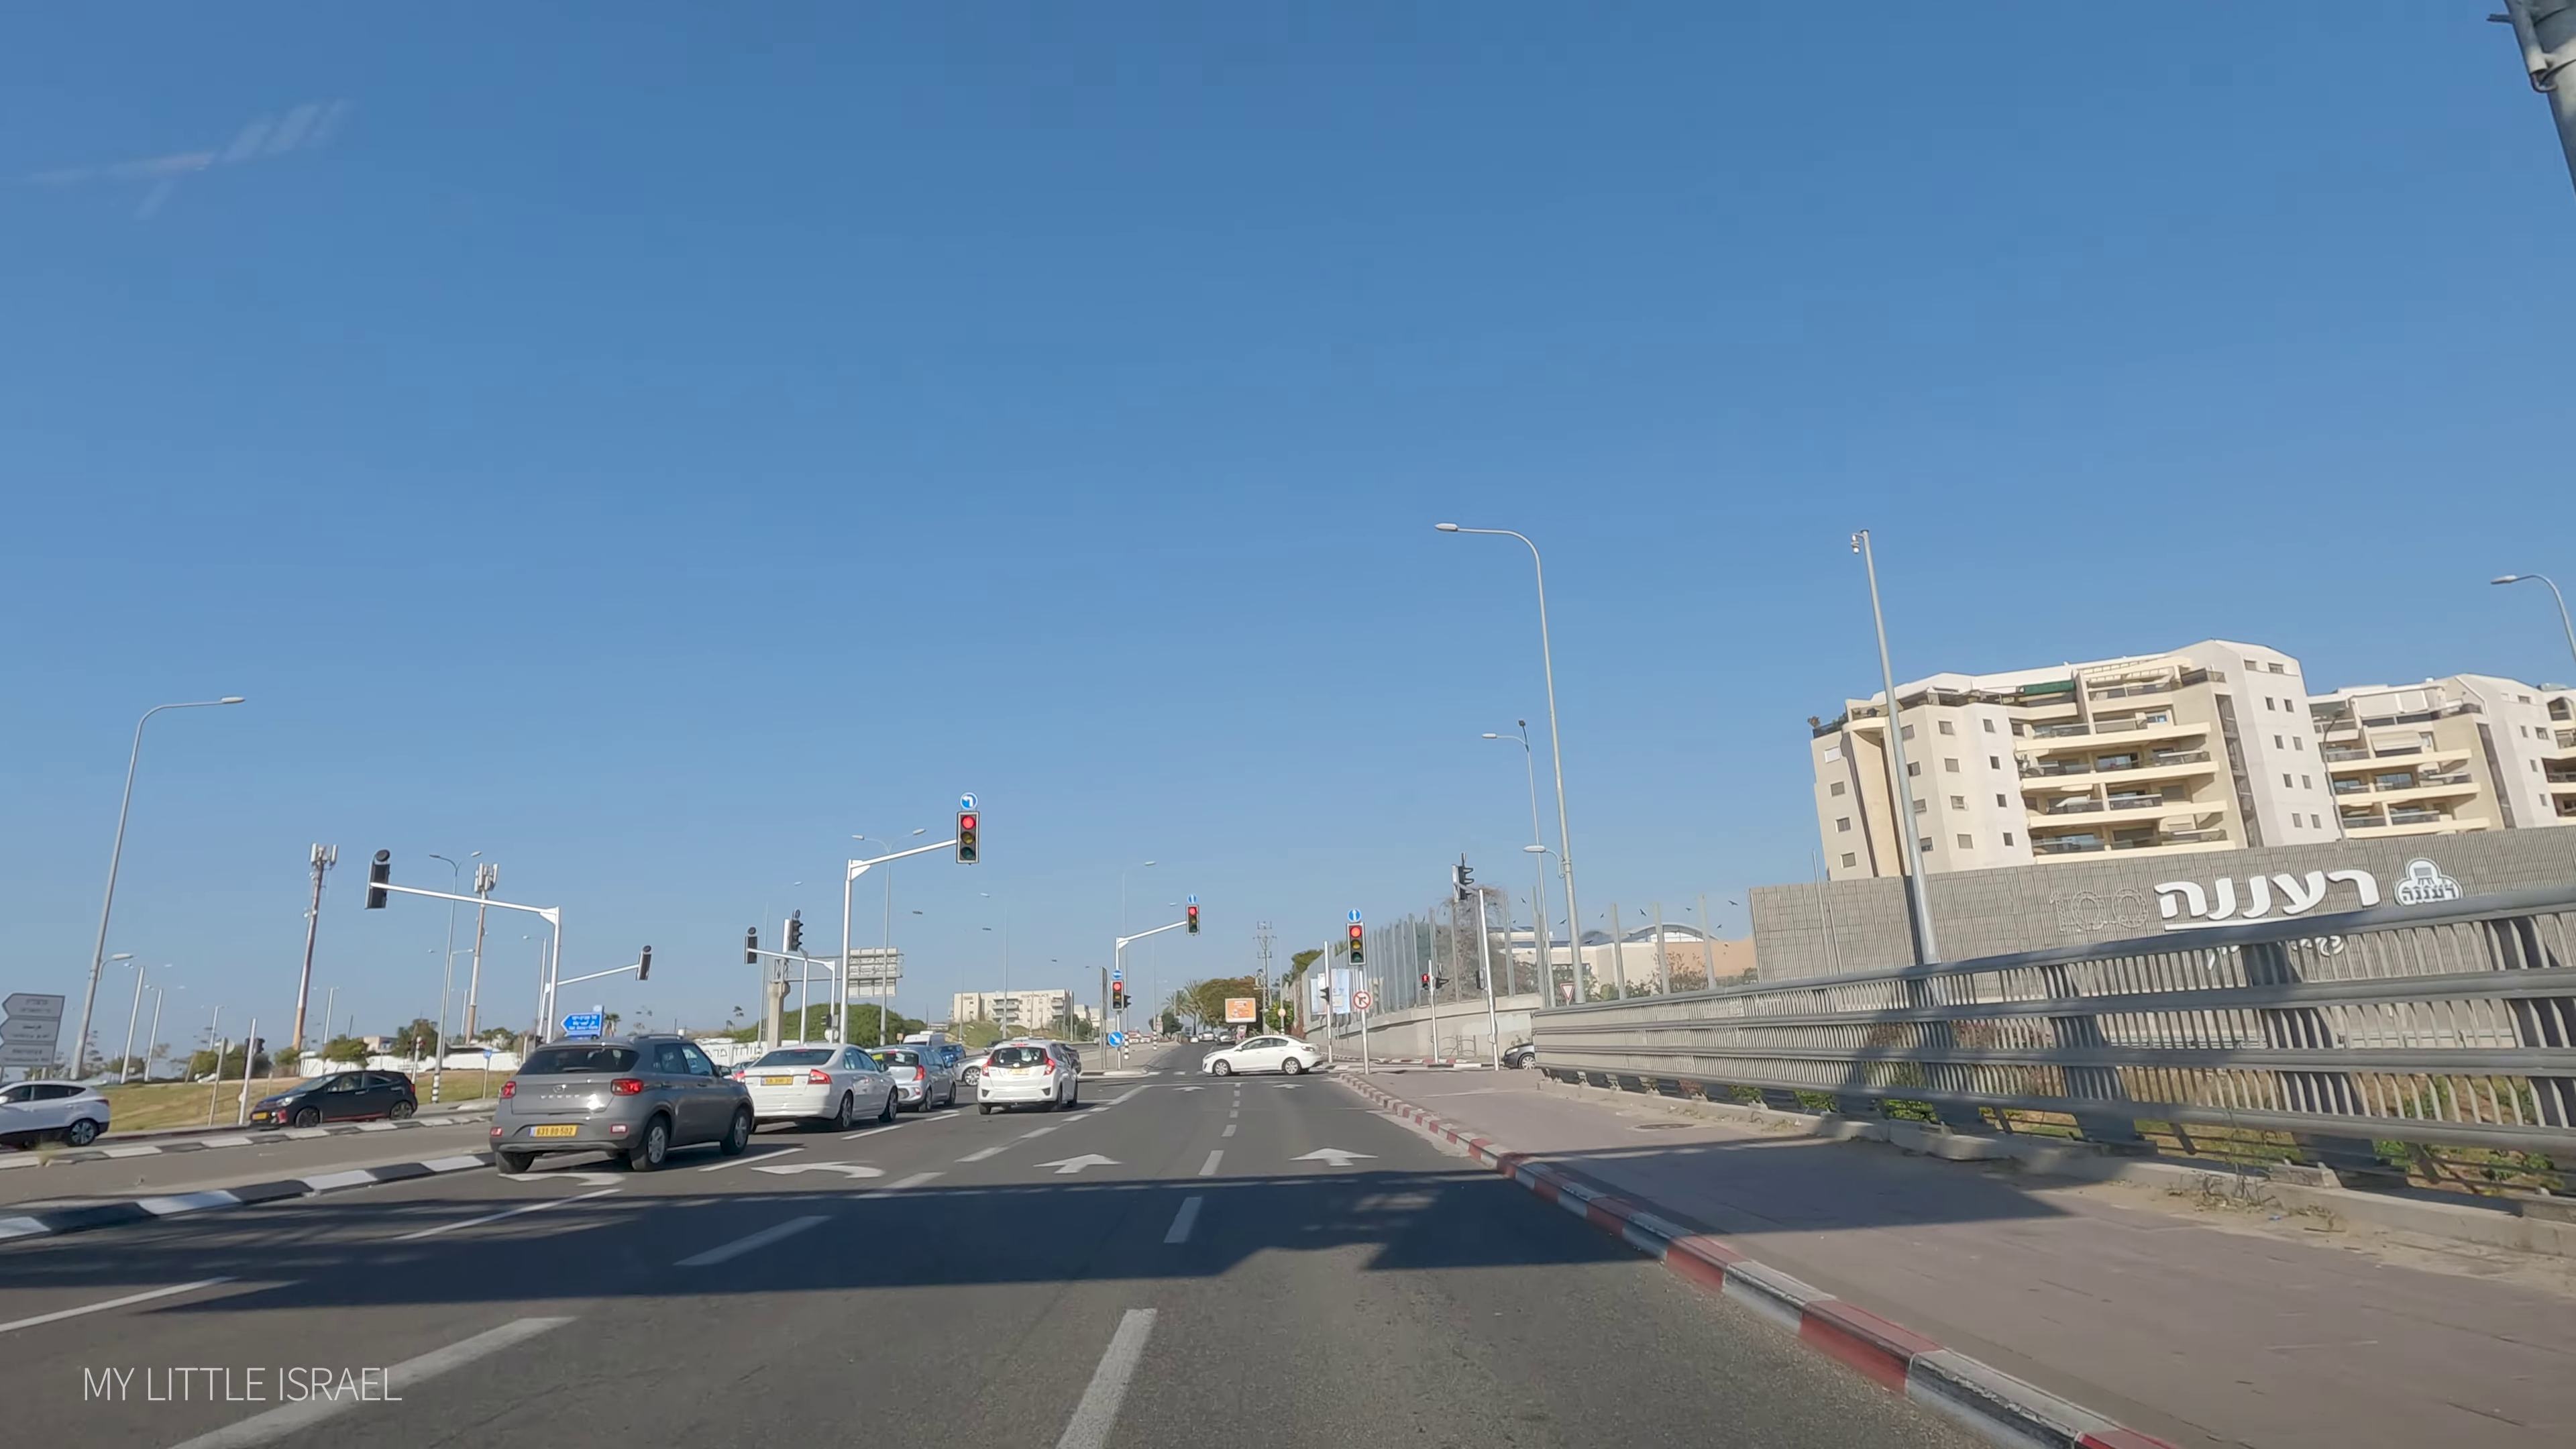licence: (528, 1126, 578, 1138), (761, 1077, 794, 1085)
